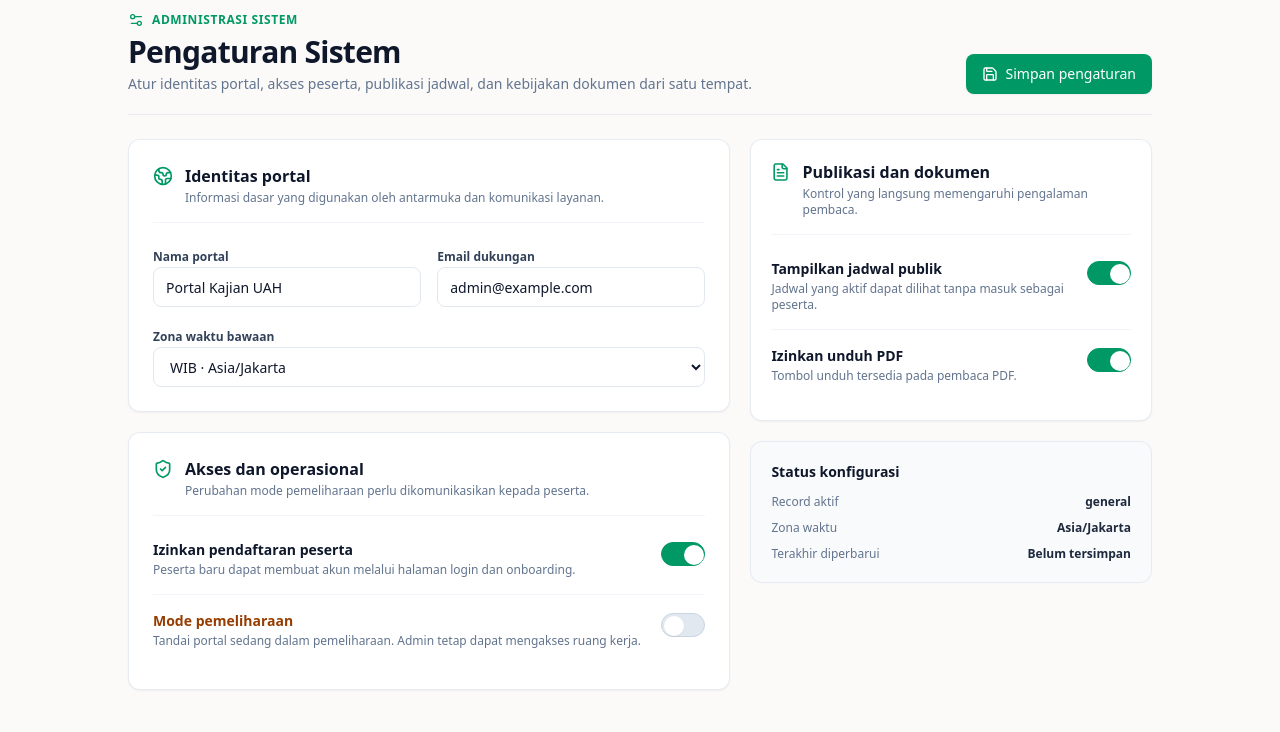
Test: Admin system settings and navigation › menyimpan konfigurasi portal dan kebijakan PDF
Replace the text in the field labelled "Nama portal" with "Kajian UAH Digital" at (287,287), box [153,267,421,307]
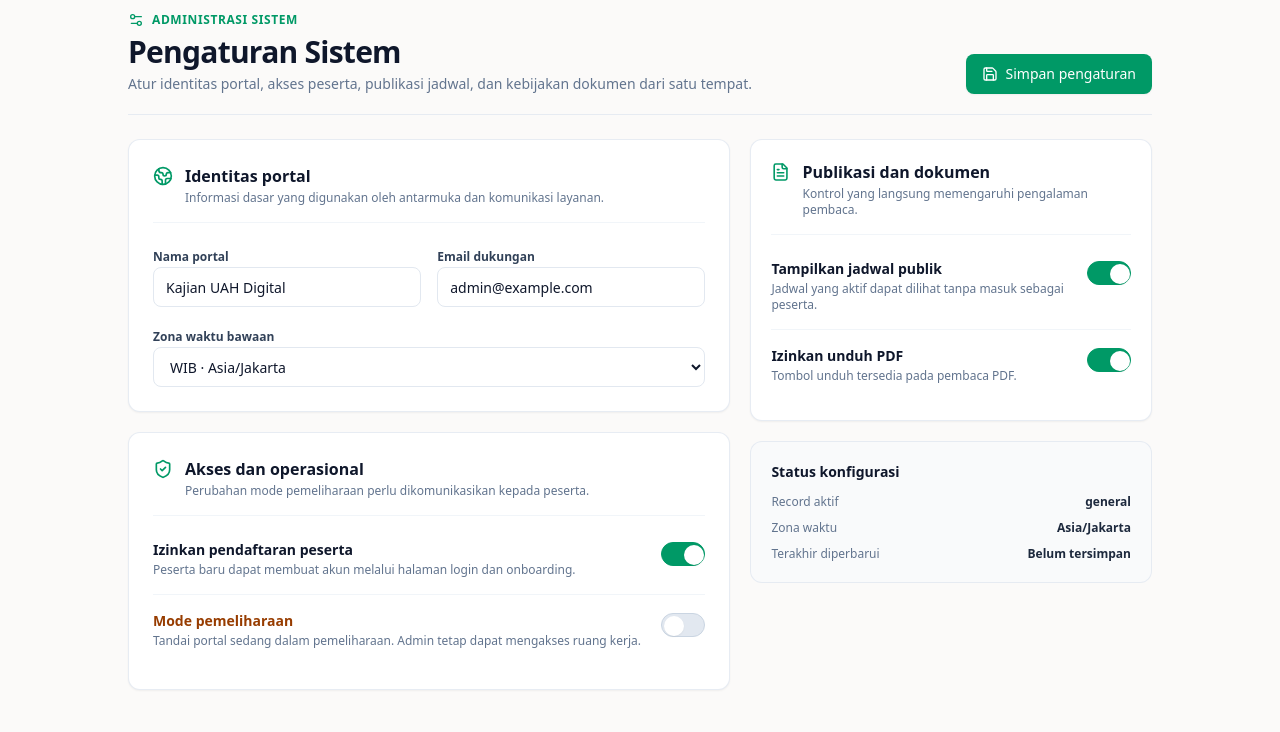
Click the checkbox labelled "Izinkan unduh PDF Tombol unduh tersedia pada pembaca PDF." at (951,365), box [771,346,1131,384]
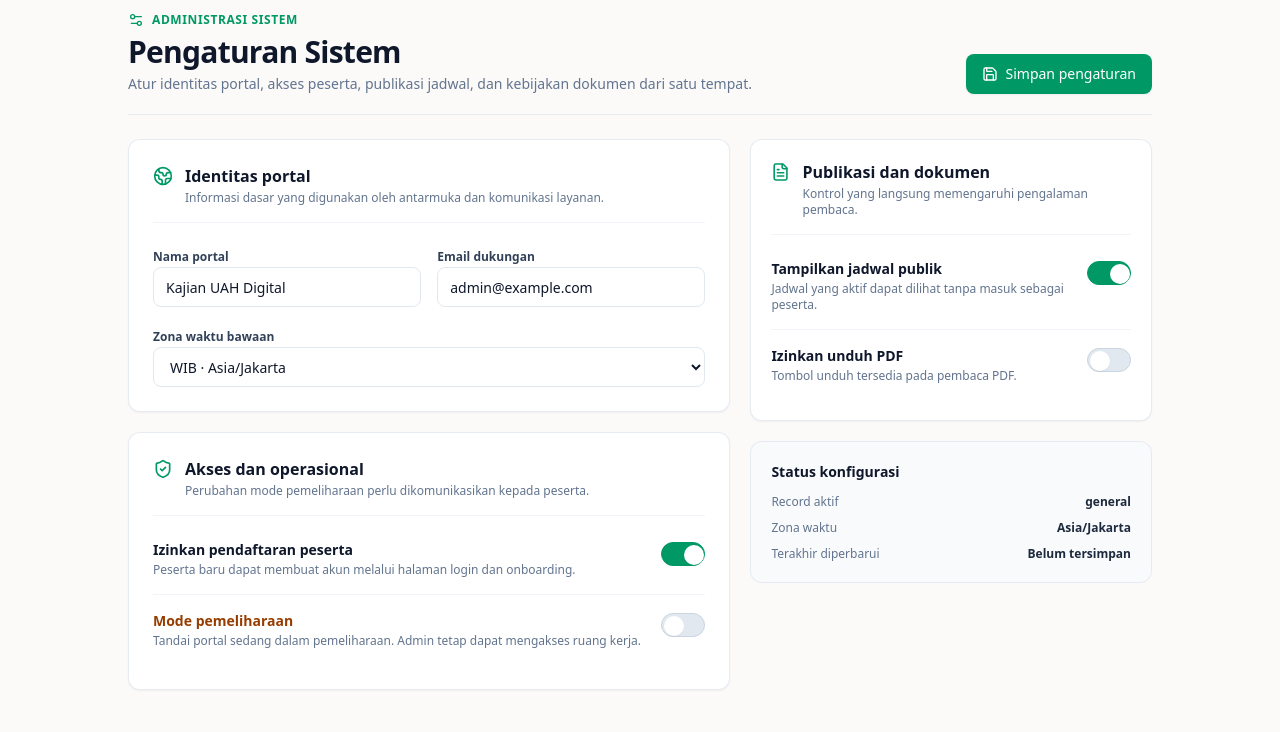
Click the button "Simpan pengaturan" at (1059,74), box [966,54,1152,94]
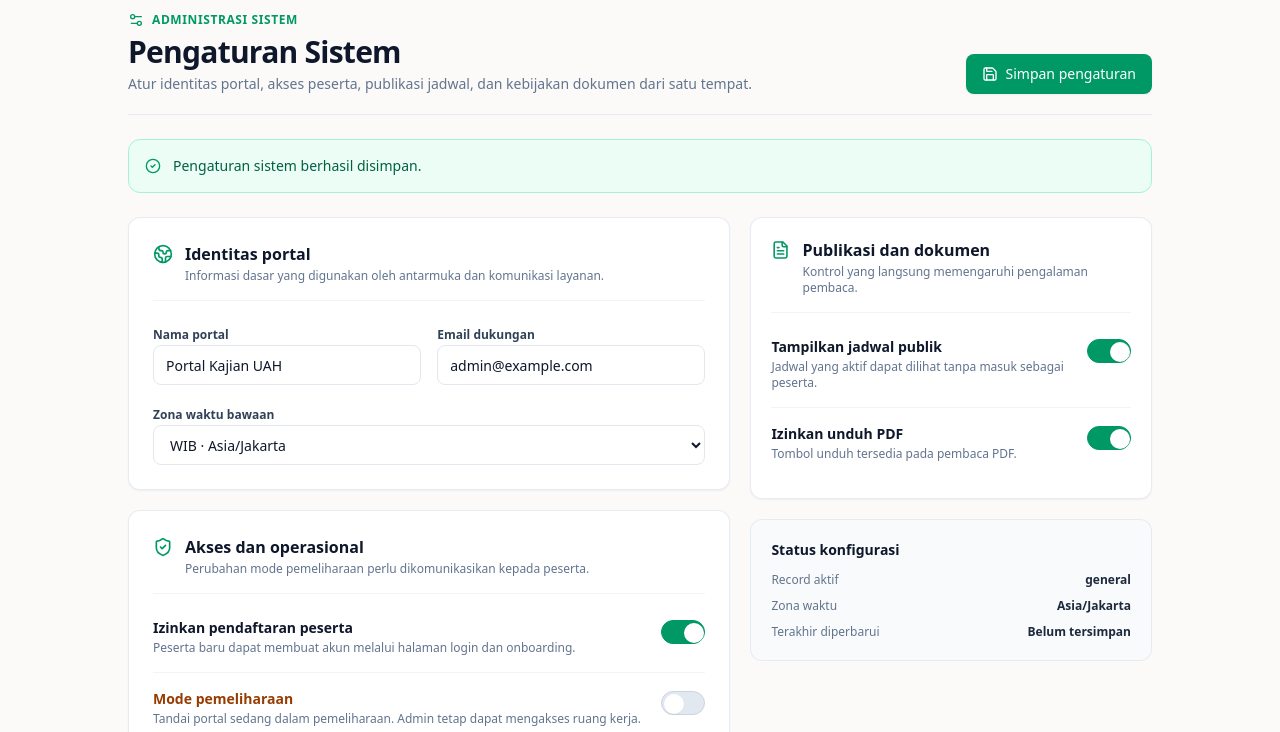
Result: the text "Pengaturan sistem berhasil disimpan." is shown at [173,156,421,176]
